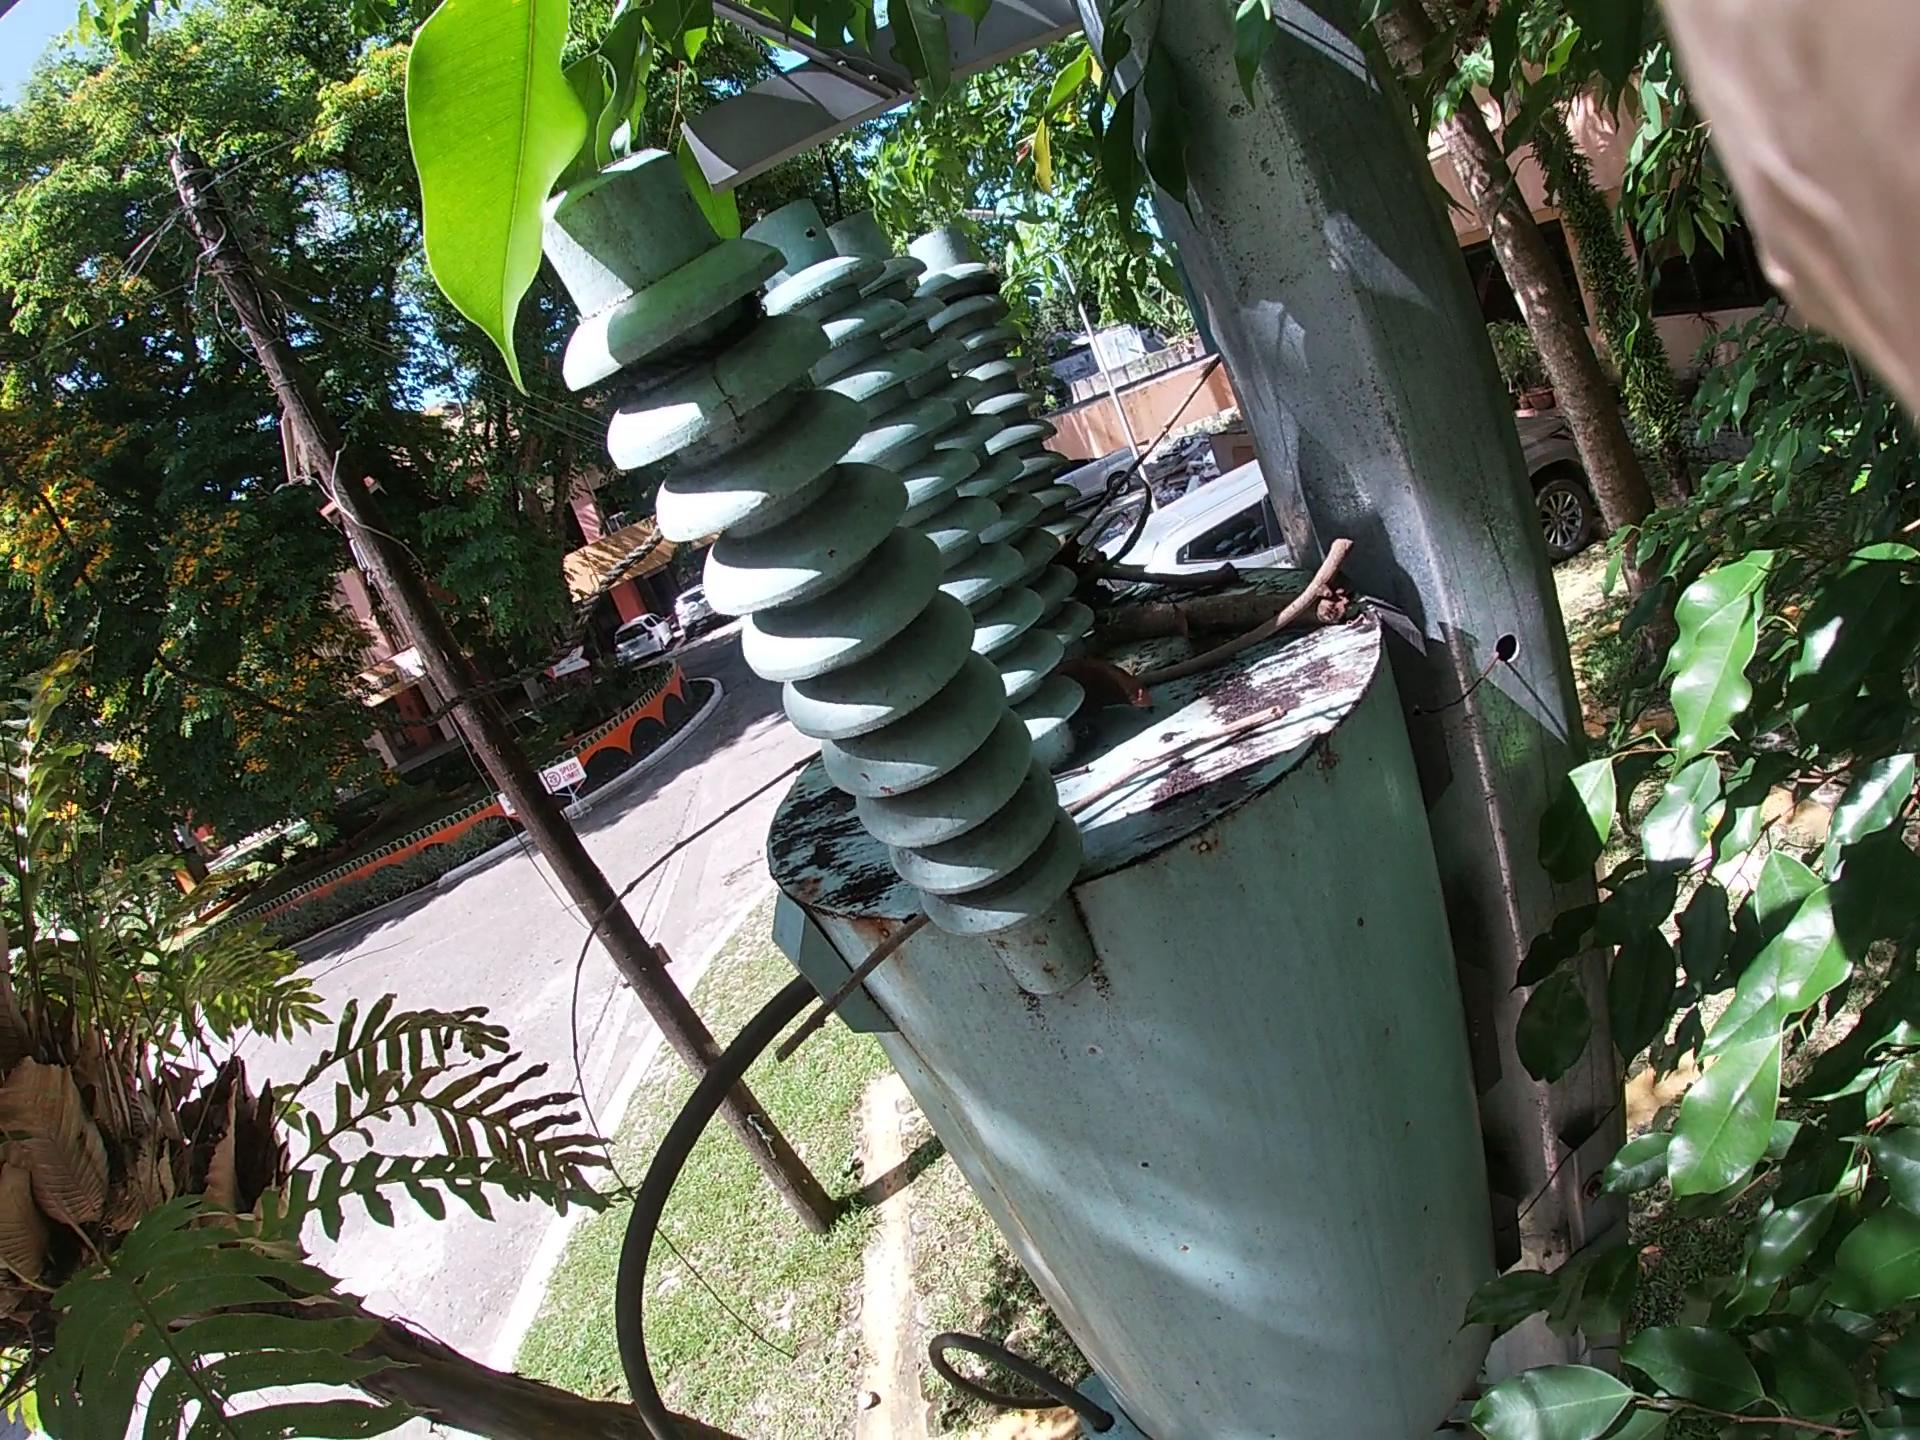leaf: (1147, 597, 1232, 659)
mahogany fruit: (972, 452, 1128, 601)
tree branch: (555, 371, 1231, 1104), (757, 771, 1293, 1050), (1057, 457, 1590, 675), (1045, 532, 1388, 613), (1073, 526, 1223, 597)
